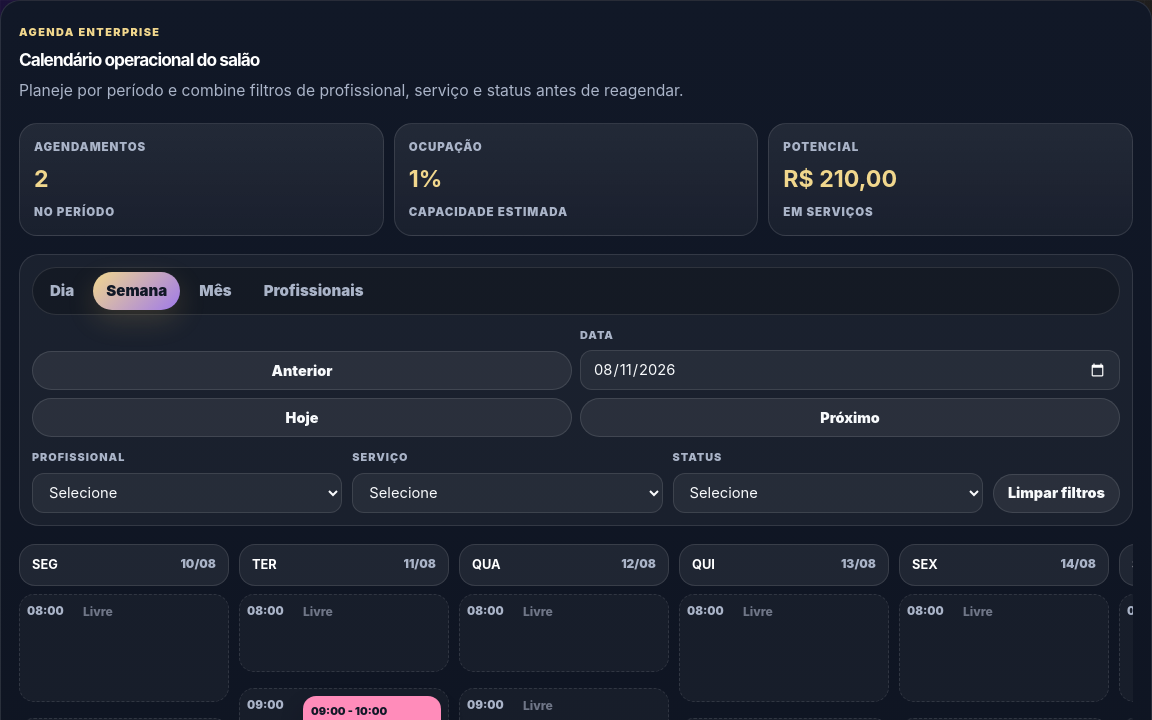
Test case: AgendaEnterprise › combina filtro por serviço com o período visível
Select "Corte" in the dropdown labelled "Serviço" at coordinates (507, 493), box x1=352 y1=473 x2=663 y2=513
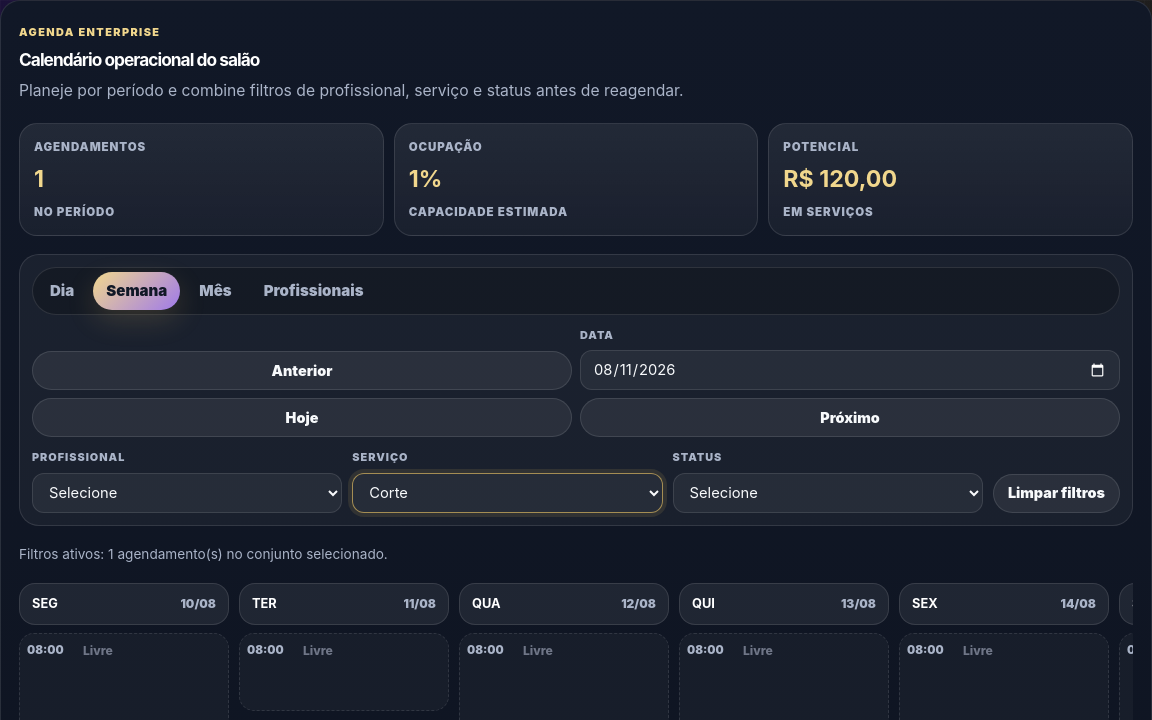
Expected: the text "Filtros ativos: 1 agendamento(s) no conjunto selecionado." is shown, x1=19 y1=546 x2=388 y2=562
